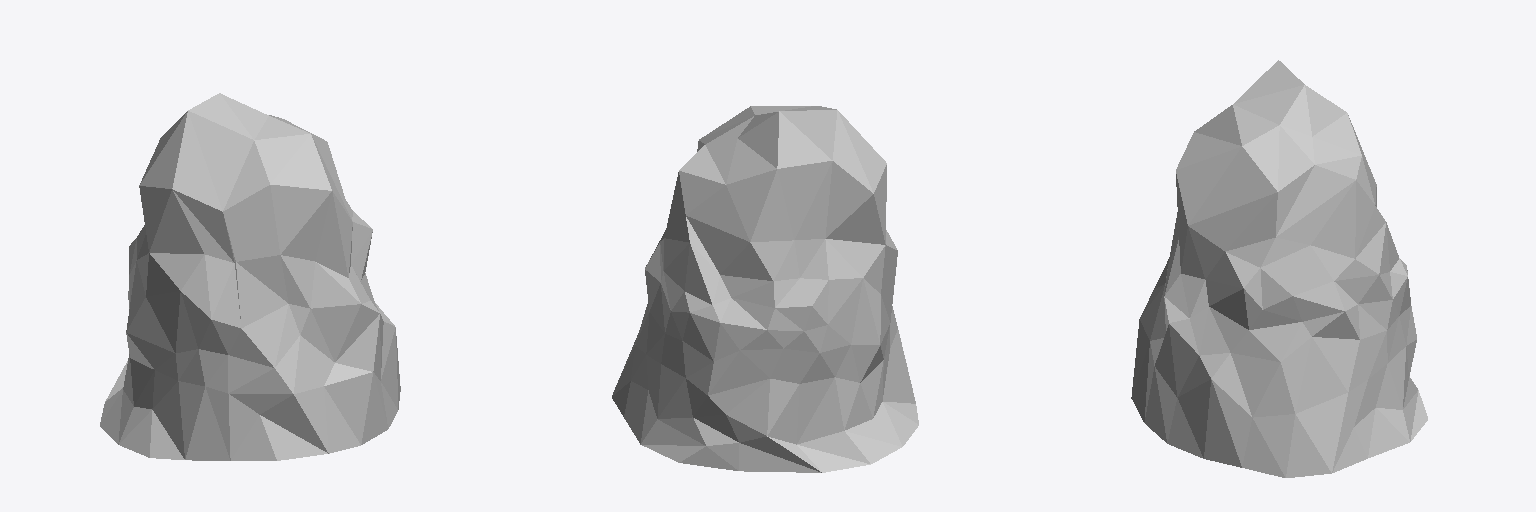
File: bigrocksmal.obj
3 views of the same model, side by side, from view 1: azimuth 30°, elevation 25°; view 2: azimuth 150°, elevation 25°; view 3: azimuth 270°, elevation 25° (orthographic).
Parts seen in each view (by area): view 1: Icosphere; view 2: Icosphere; view 3: Icosphere.
Part boxes in pixels (bbox=[...]): Icosphere: bbox=[100, 93, 400, 460]; Icosphere: bbox=[612, 106, 918, 472]; Icosphere: bbox=[1131, 60, 1427, 477].
Size of the model in its own units: 2.63 by 3 by 2.49.